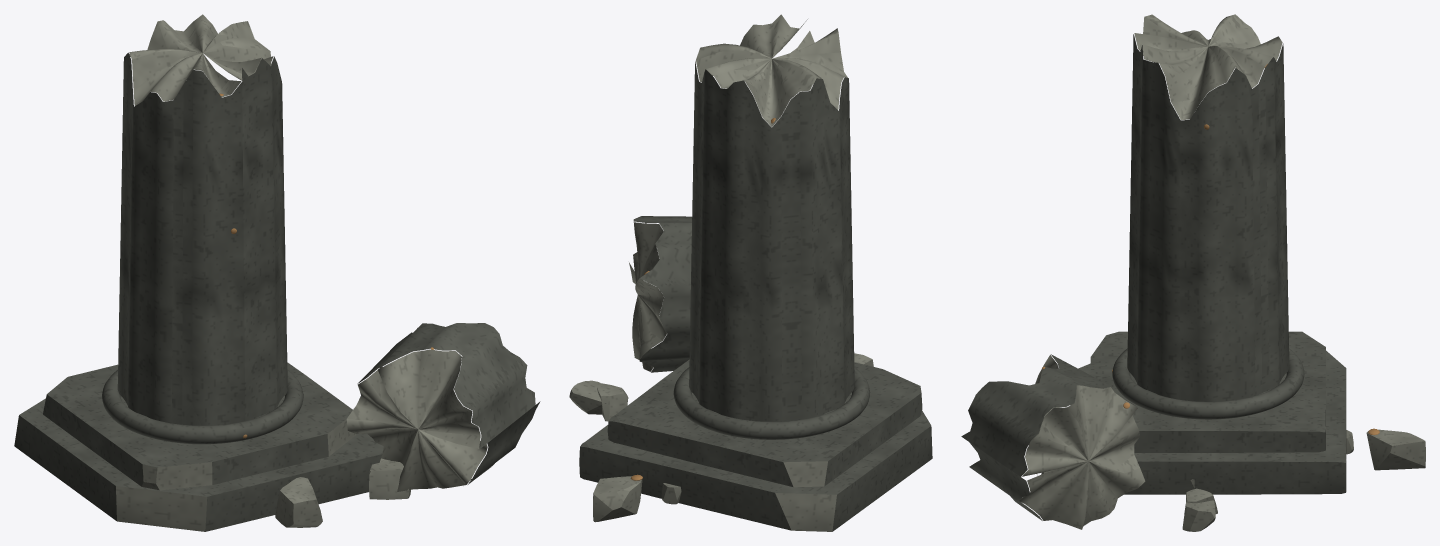
3 renders of one model, left to right at view 1: azimuth 30°, elevation 25°; view 2: azimuth 150°, elevation 25°; view 3: azimuth 270°, elevation 25°, orthographic. The views are drawn at different scales.
Parts seen in each view (by area): view 1: weathered mineral, fresh chipped mineral; view 2: weathered mineral, fresh chipped mineral; view 3: weathered mineral, fresh chipped mineral.
Boxes of the visible parts, bbox=[...] form: weathered mineral: bbox=[14, 52, 540, 531]; fresh chipped mineral: bbox=[116, 14, 487, 531]; weathered mineral: bbox=[579, 61, 932, 531]; fresh chipped mineral: bbox=[569, 14, 873, 531]; weathered mineral: bbox=[961, 34, 1346, 520]; fresh chipped mineral: bbox=[974, 14, 1425, 531].
Size of the model in its own units: 0.9977 by 1.1 by 1.15.
Materials: 3 (2 with a texture image).
